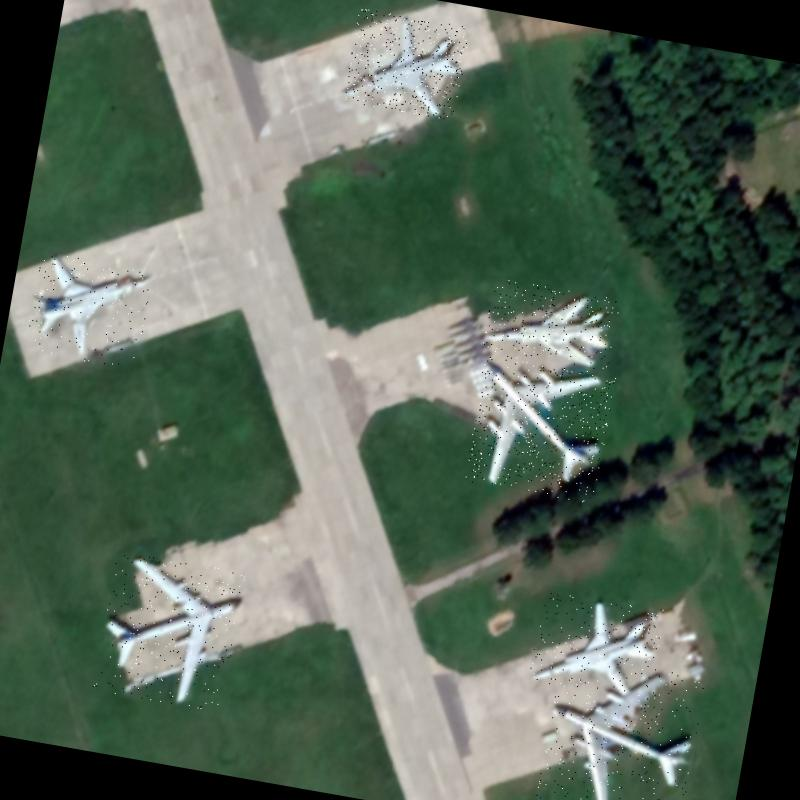A12: (528, 589, 665, 702), (24, 251, 154, 370), (343, 8, 471, 121), (481, 278, 621, 372)
A17: (534, 653, 706, 800), (92, 550, 247, 713), (462, 352, 616, 504)
